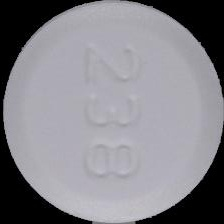64725-0238: (0, 0, 224, 224)
